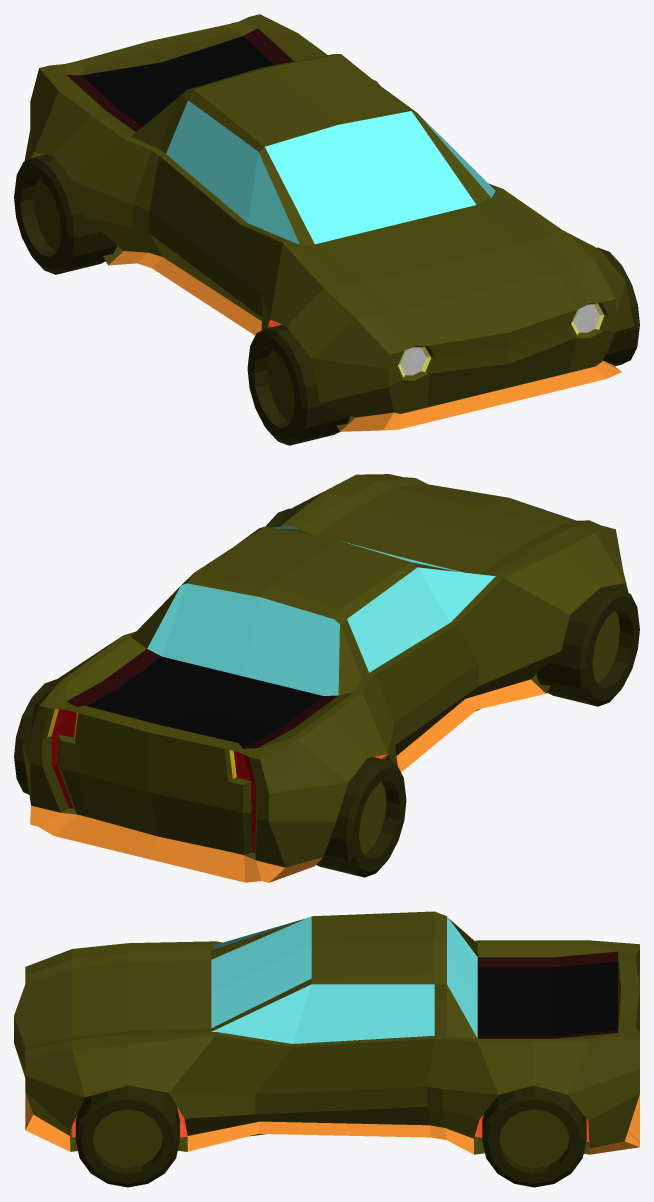
File: car02.fbx
3 views of the same model, one above another, from view 1: azimuth 30°, elevation 25°; view 2: azimuth 150°, elevation 25°; view 3: azimuth 270°, elevation 25° (orthographic). The views are drawn at different scales.
Parts seen in each view (by area): view 1: car02; view 2: car02; view 3: car02.
Boxes of the visible parts, x1=… form: car02: x1=14, y1=14, x2=639, y2=445; car02: x1=14, y1=474, x2=639, y2=882; car02: x1=14, y1=911, x2=639, y2=1187.
Bounding box in the file's own units: 111 × 63.88 × 204.
